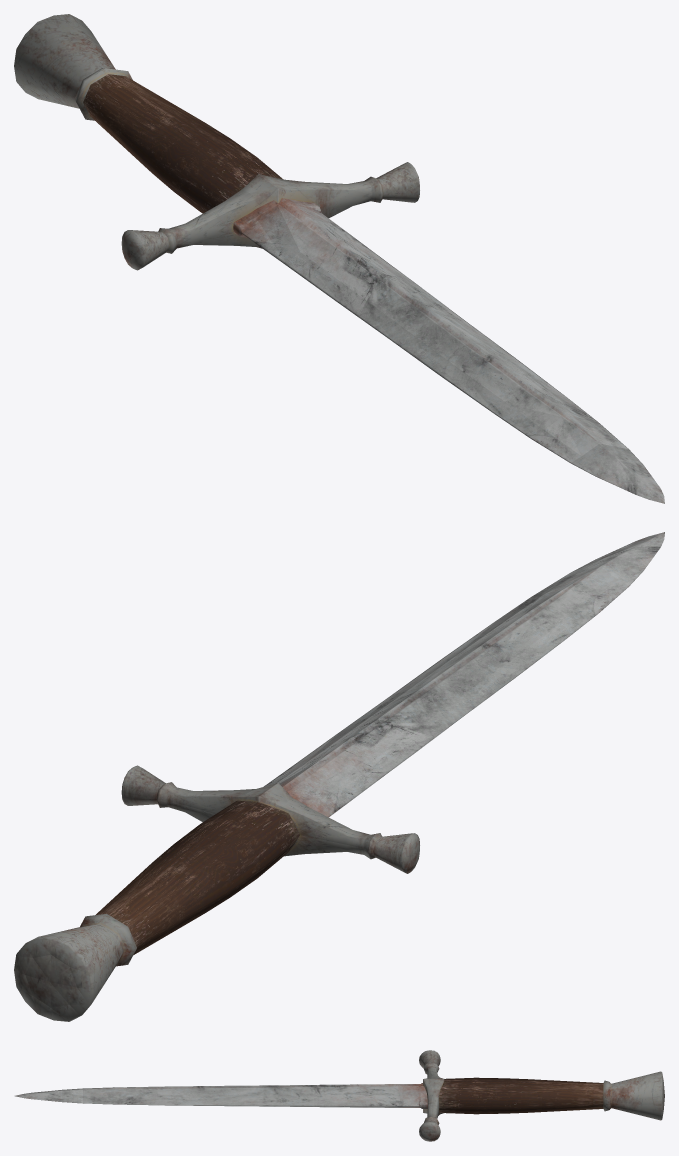
3 renders of one model, top to bottom at view 1: azimuth 30°, elevation 25°; view 2: azimuth 150°, elevation 25°; view 3: azimuth 270°, elevation 25°, orthographic. The views are drawn at different scales.
Visible parts, largest first — view 1: WP_A_0100; view 2: WP_A_0100; view 3: WP_A_0100.
Part boxes in pixels (x1,y1,x2,y2): WP_A_0100: (14, 14, 664, 503); WP_A_0100: (14, 532, 664, 1021); WP_A_0100: (15, 1050, 664, 1141).
Bounding box in the file's own units: 14.55 × 3.97 × 53.75.
Materials: 1 (1 with a texture image).
